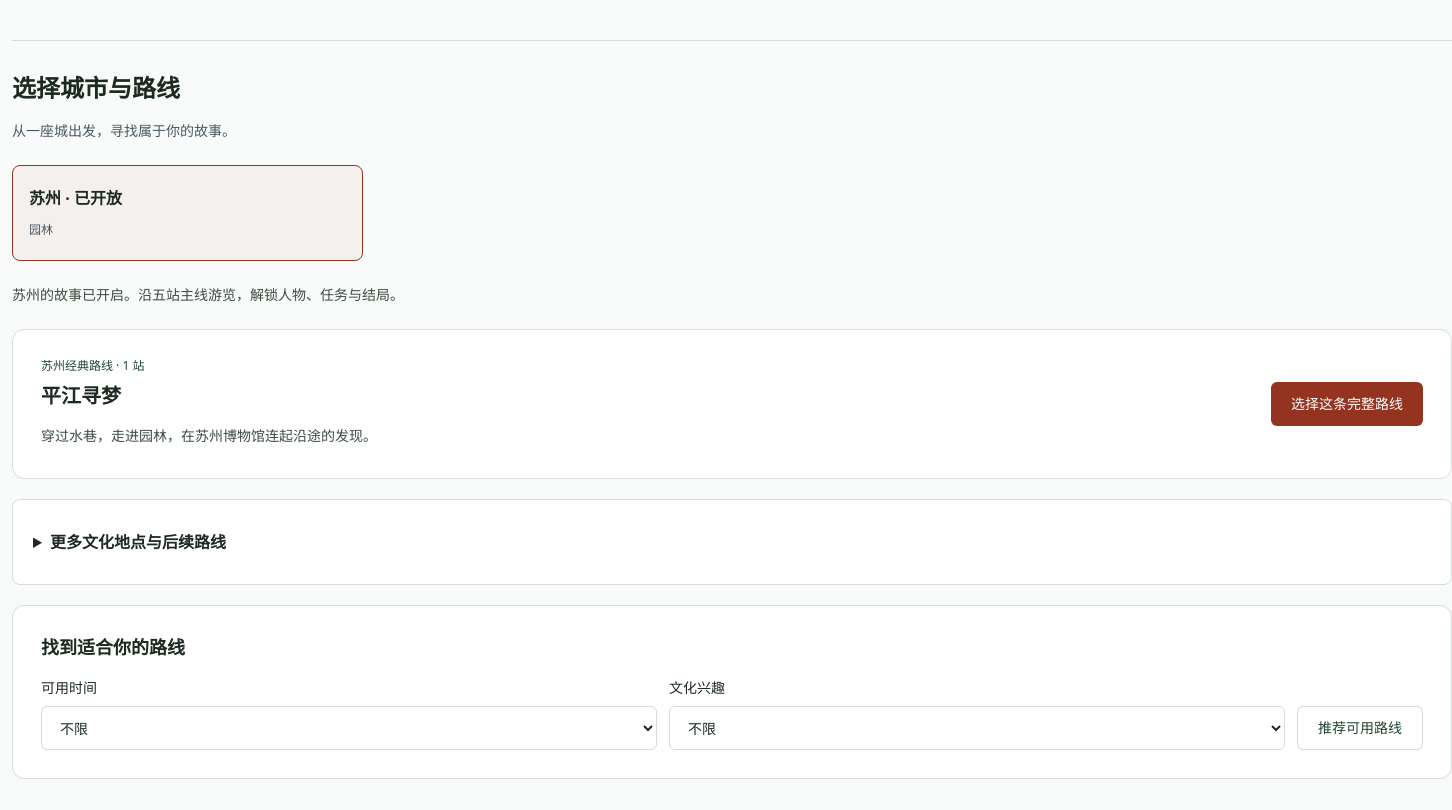
主线突出完整路线，节选不作为独立旅程推荐，未知距离不显示占位
Click the button "推荐可用路线": {"x": 1360, "y": 728} [1297,706,1423,750]
(page scrolled)
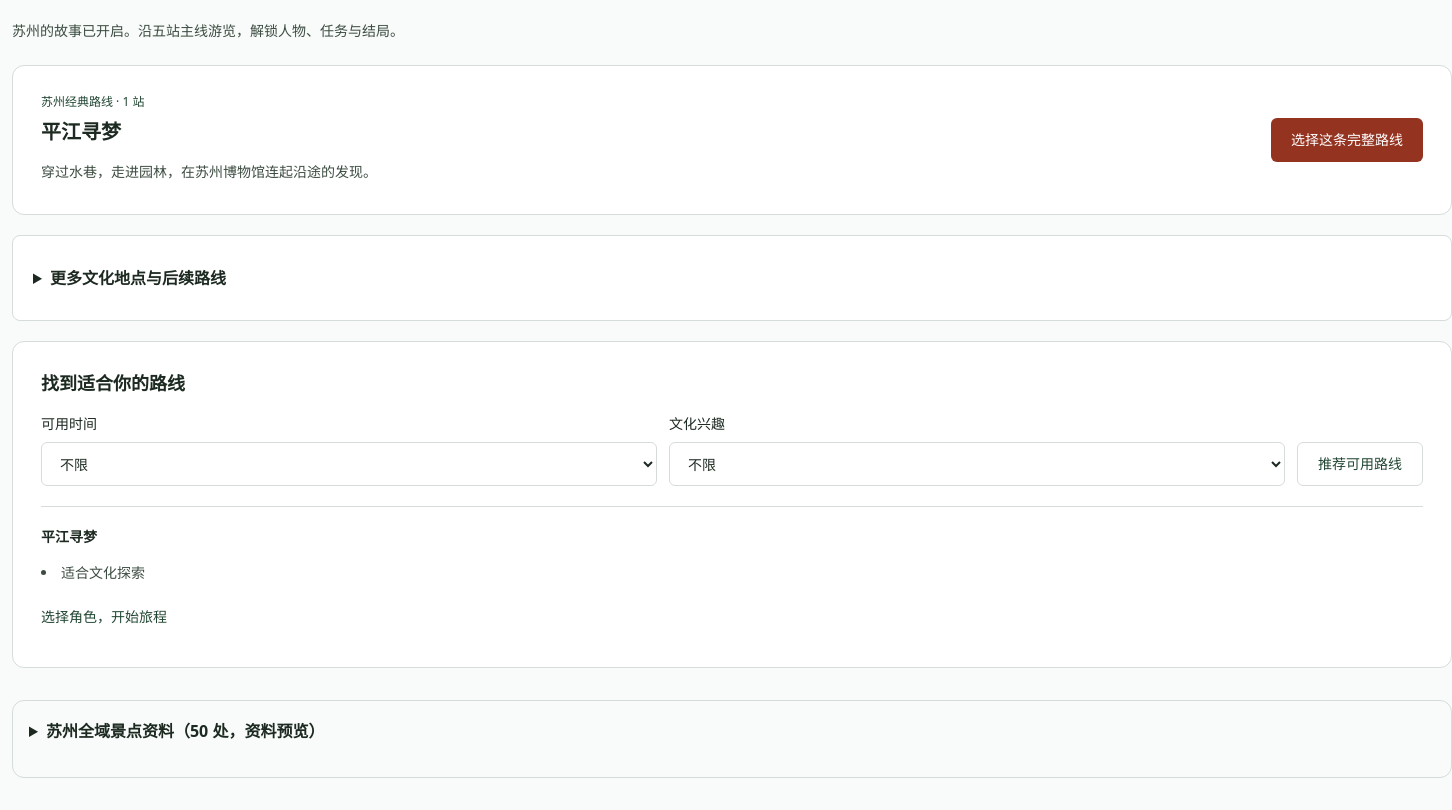
Expected: the number of links "选择这条完整路线" is 2, [1271,118,1423,162]; [41,607,167,626]
Expected: the list item "适合文化探索" is shown, [61,563,145,582]
